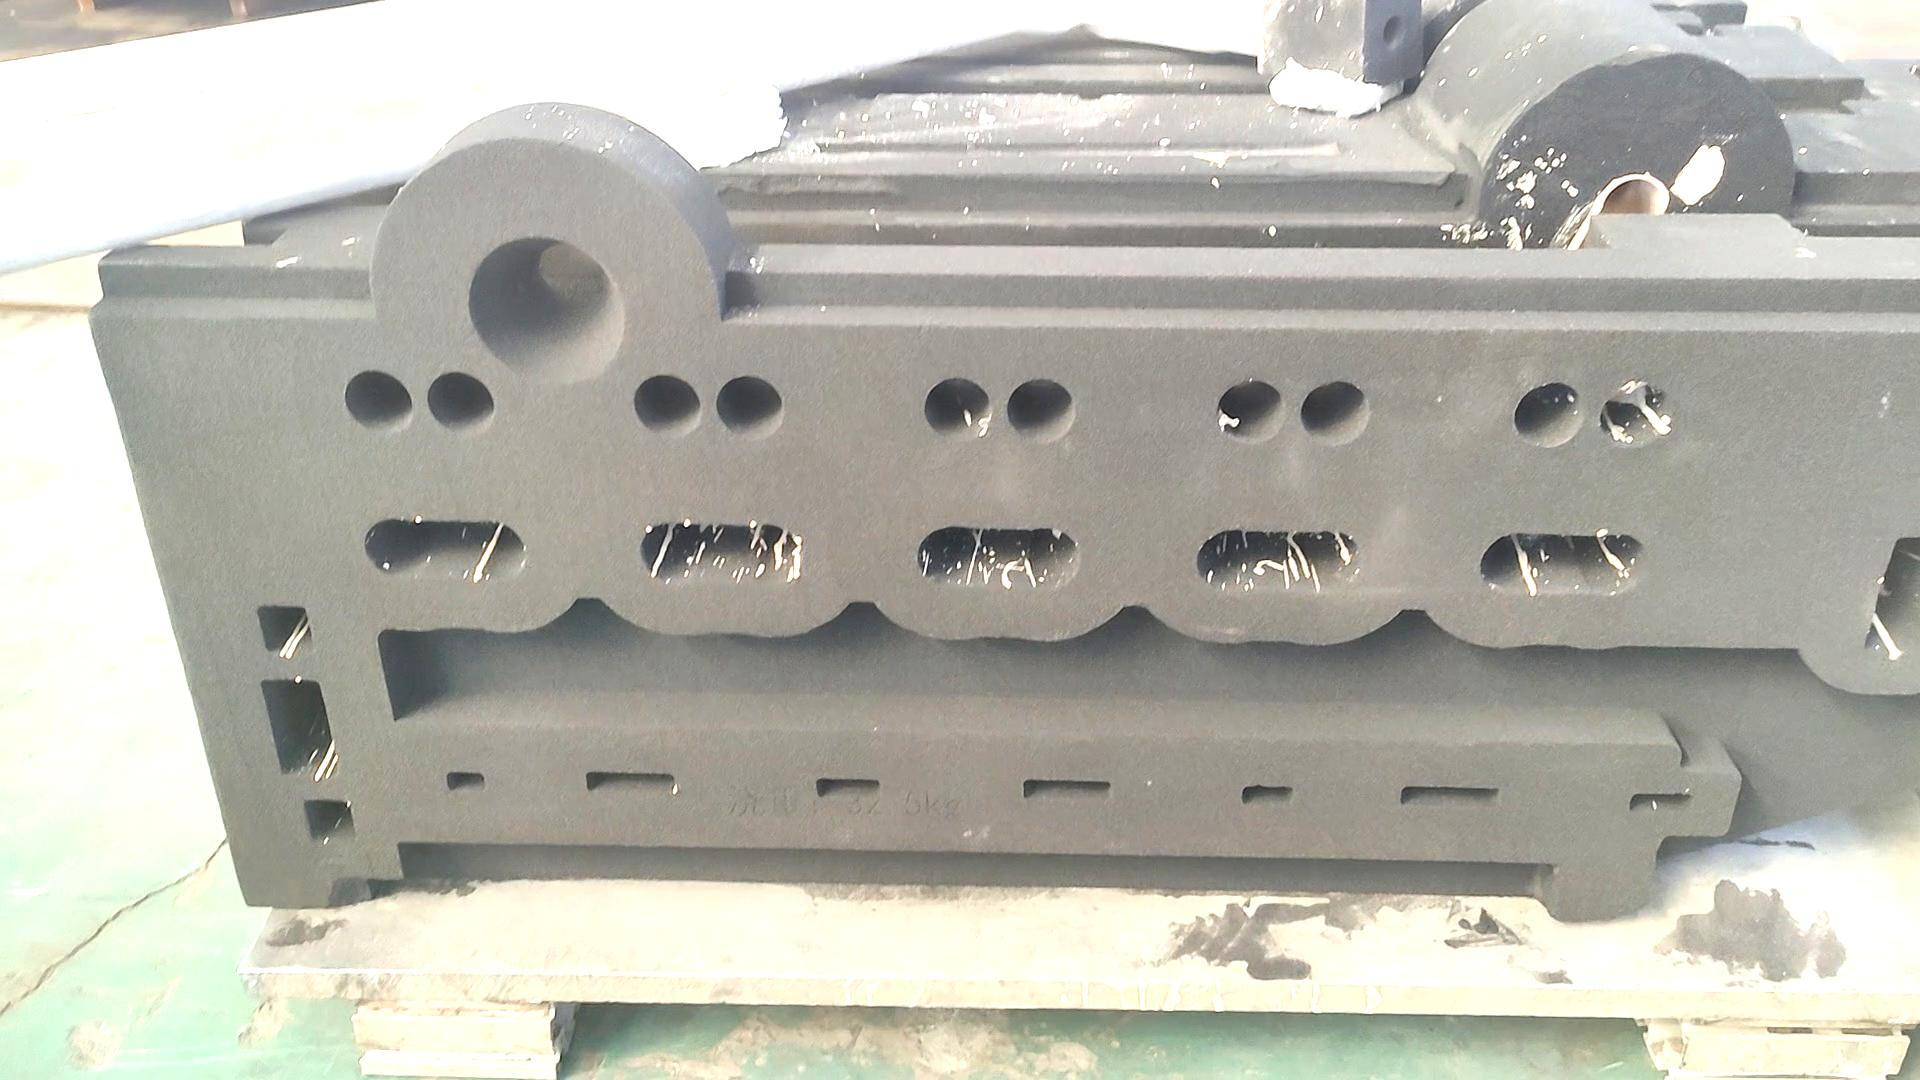pouring hole: (468, 236, 622, 384)
